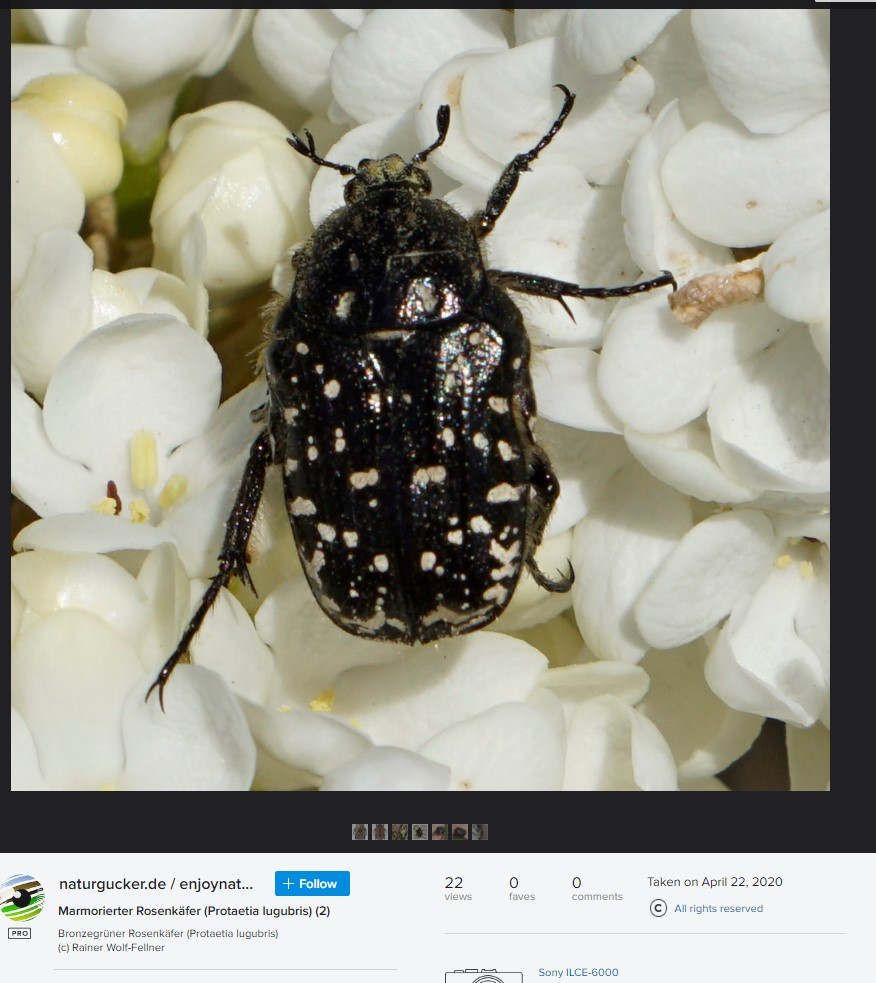Protaetia_lugubris: (145, 78, 683, 709)
